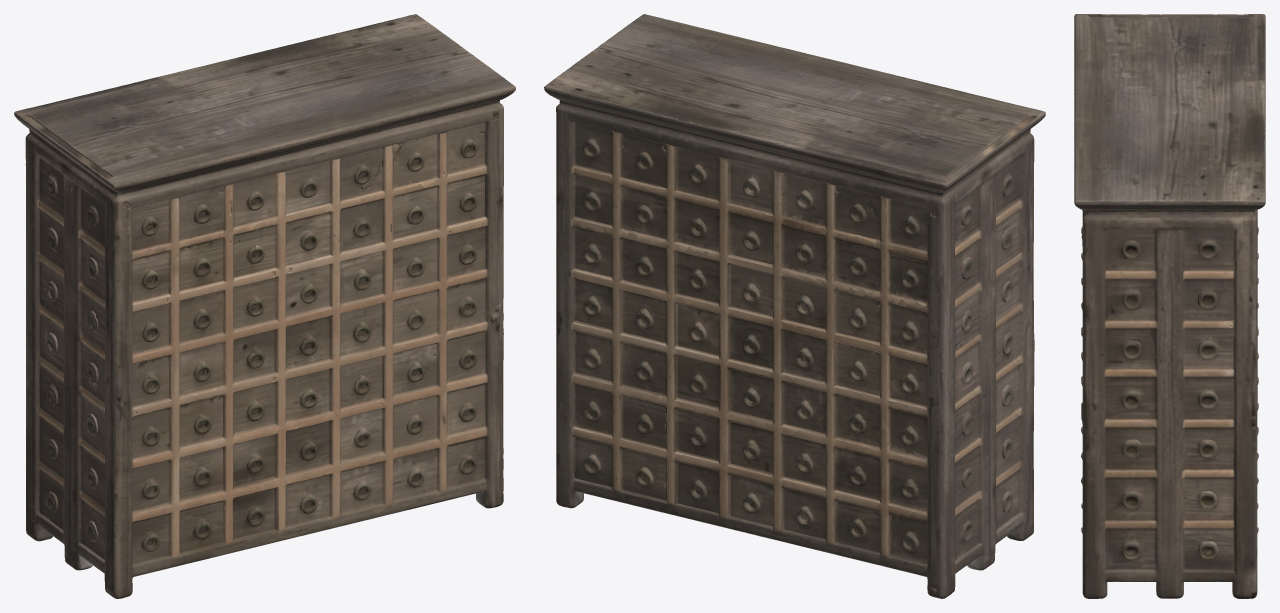
Rendered from herbal-cabinet-v2.glb.
The picture shows the model from 3 angles, left to right: view 1: azimuth 30°, elevation 25°; view 2: azimuth 150°, elevation 25°; view 3: azimuth 270°, elevation 25°; orthographic projection. The views are drawn at different scales.
Parts seen in each view (by area): view 1: geometry_0; view 2: geometry_0; view 3: geometry_0.
Part boxes in pixels (x1,y1,x2,y2): geometry_0: [14, 14, 515, 598]; geometry_0: [544, 14, 1045, 598]; geometry_0: [1074, 14, 1265, 598].
Bounding box in the file's own units: 1.3 × 1.3 × 0.5607.
Materials: 1 (1 with a texture image).
